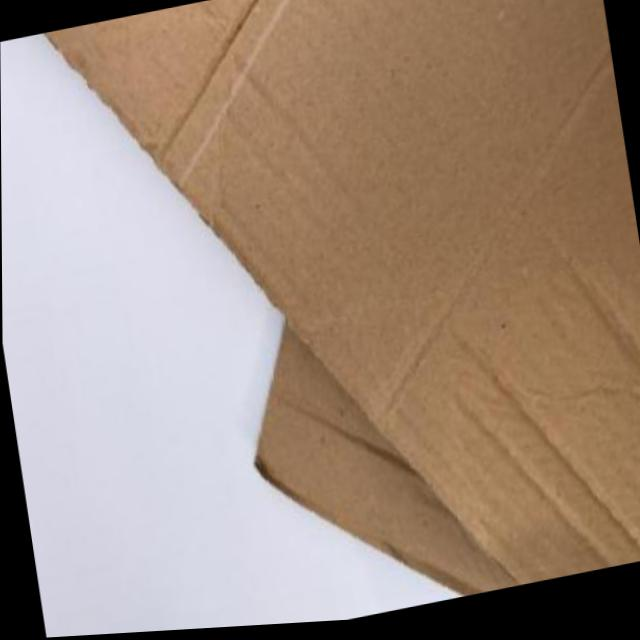box: (34, 0, 640, 638)
